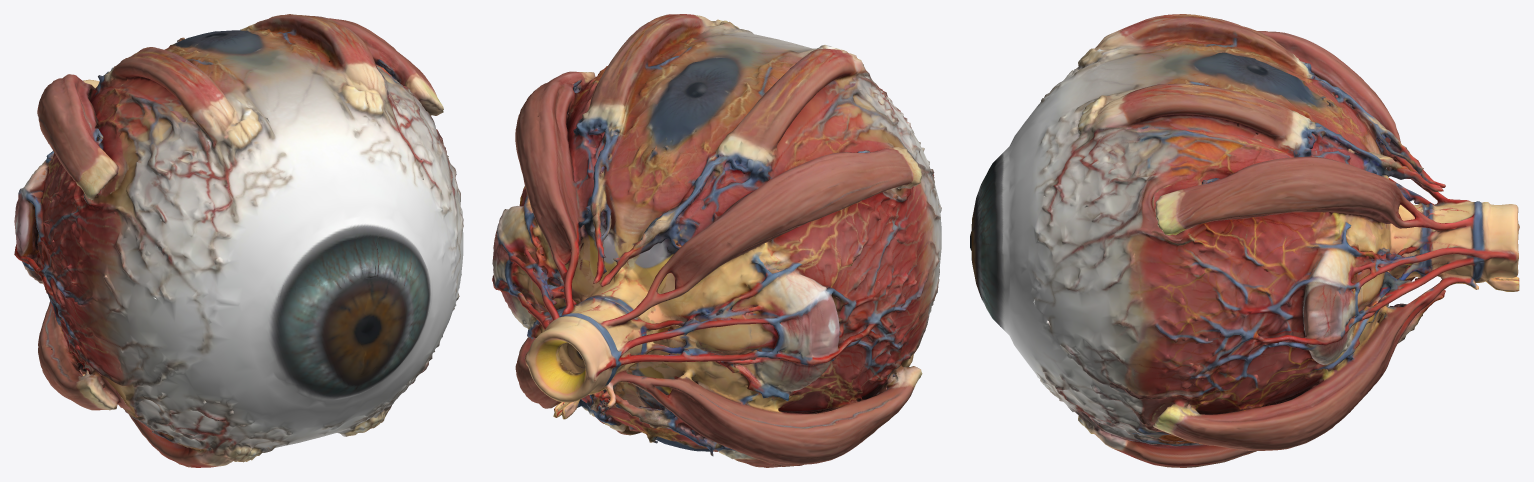
The model's file is eyehuman.glb.
3 renders of one model, left to right at view 1: azimuth 30°, elevation 25°; view 2: azimuth 150°, elevation 25°; view 3: azimuth 270°, elevation 25°, orthographic. The views are drawn at different scales.
Bounding box in the file's own units: 1.41 × 1.46 × 1.92.
1 material, 1 textured.
